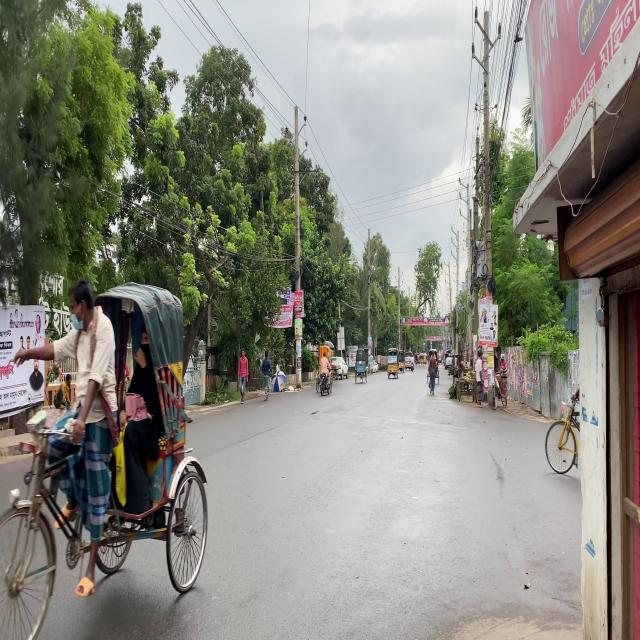rickshaw: (5, 280, 203, 619)
